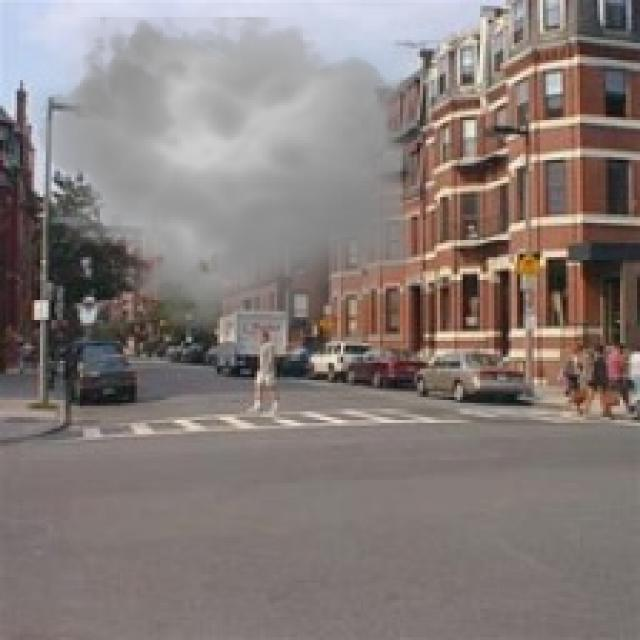Smoke: (22, 0, 434, 349)
